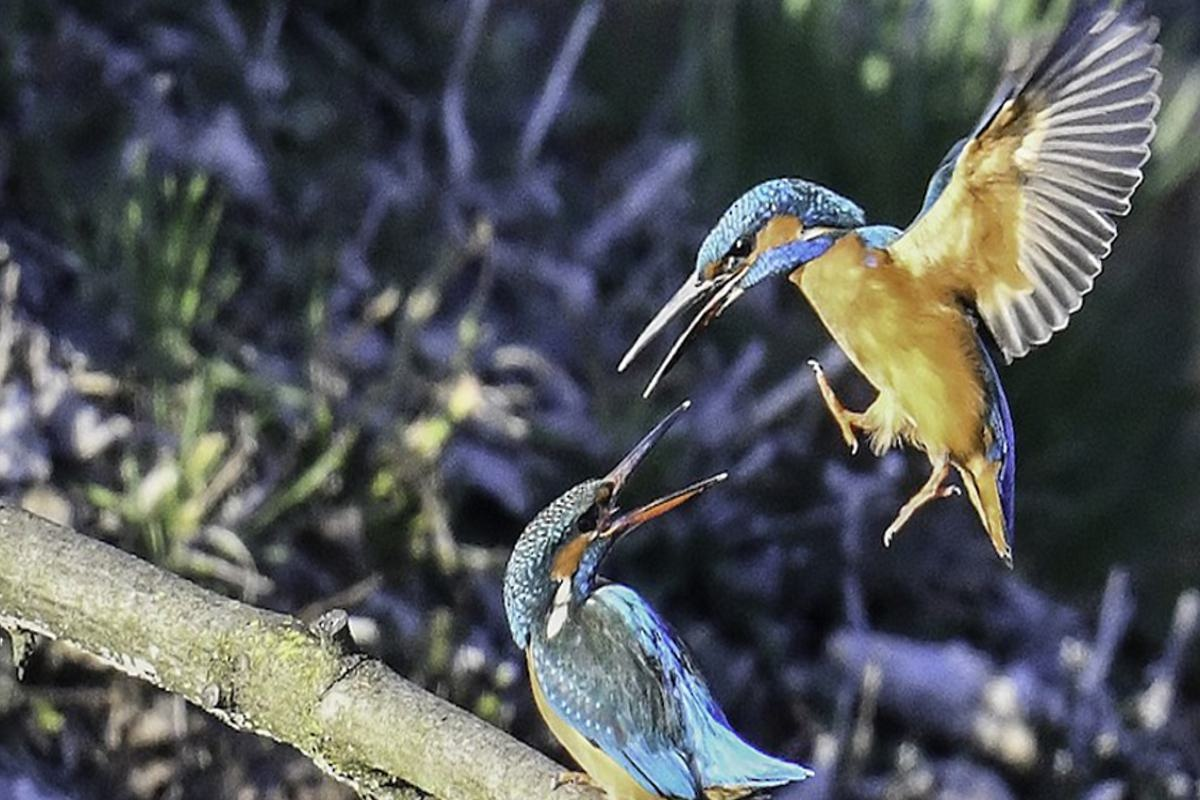kingfisher: (646, 23, 1175, 563), (517, 399, 802, 800)
